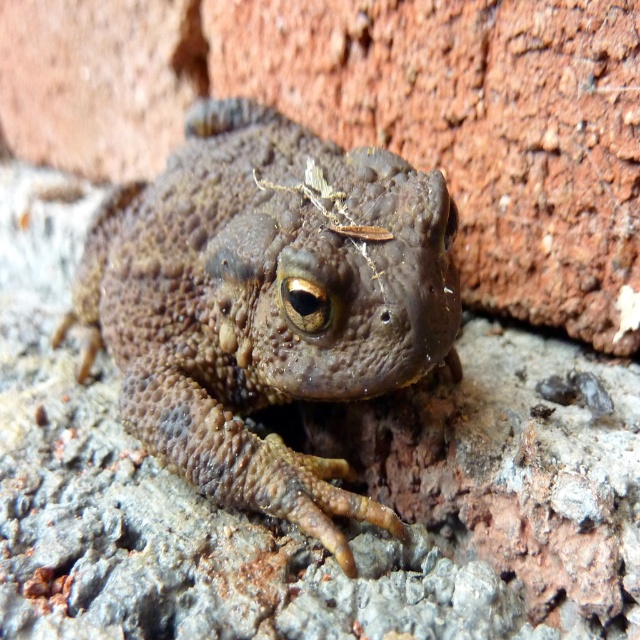Frog: (50, 91, 463, 581)
